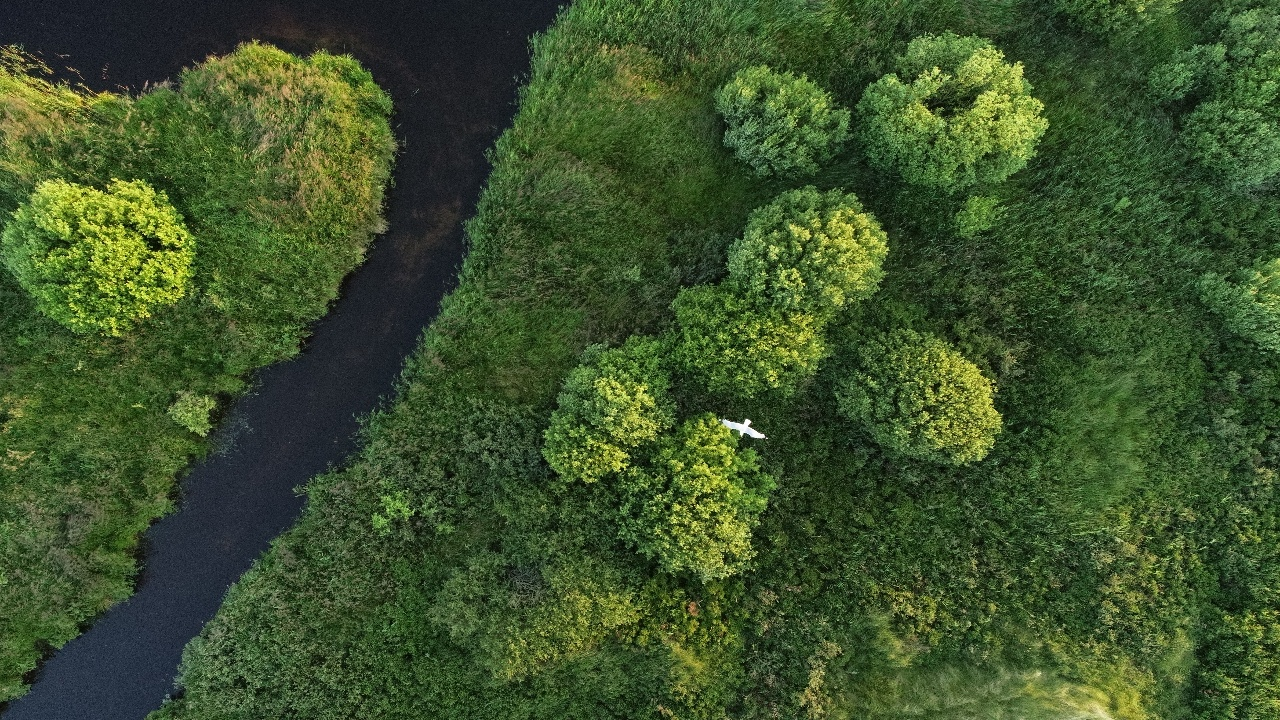Bird: (716, 403, 771, 450)
